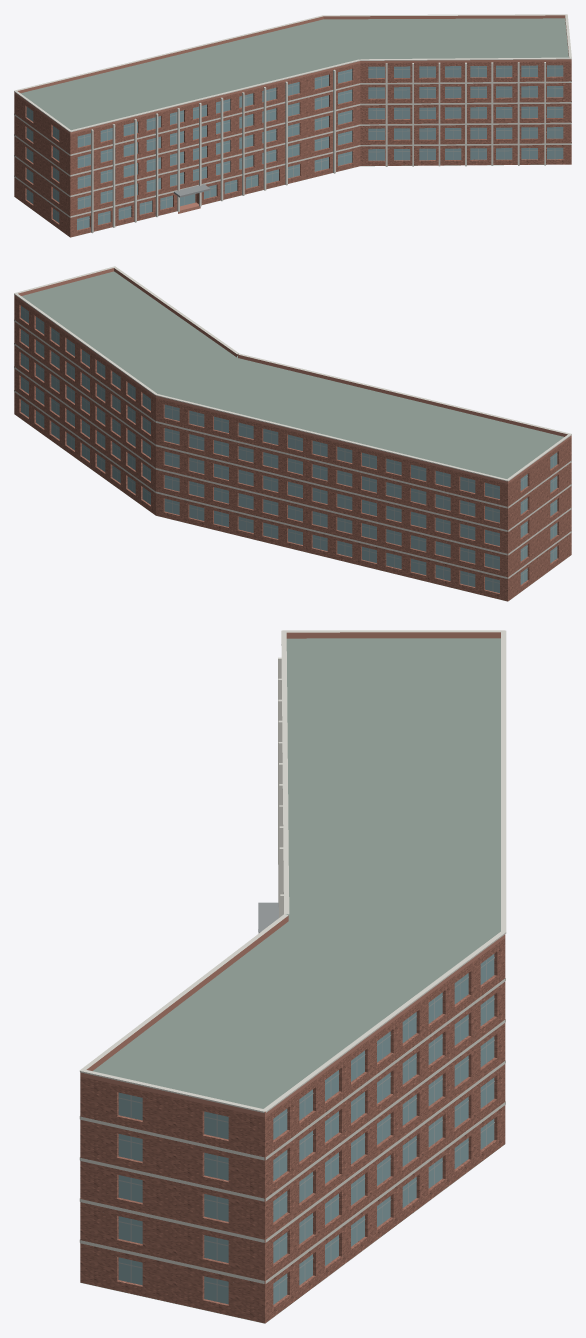
The picture shows the model from 3 angles, top to bottom: view 1: azimuth 30°, elevation 25°; view 2: azimuth 150°, elevation 25°; view 3: azimuth 270°, elevation 25°; orthographic projection. The views are drawn at different scales.
Parts seen in each view (by area): view 1: hwahong__wall, hwahong__roof, hwahong__glass, hwahong__trim, hwahong__parapet, hwahong__frame; view 2: hwahong__wall, hwahong__roof, hwahong__glass, hwahong__trim, hwahong__parapet, hwahong__frame; view 3: hwahong__roof, hwahong__wall, hwahong__glass, hwahong__trim, hwahong__parapet, hwahong__frame.
Part boxes in pixels (left/top/right/bottom): hwahong__wall: left=14, top=61, right=571, bottom=237; hwahong__roof: left=19, top=18, right=568, bottom=237; hwahong__glass: left=26, top=65, right=563, bottom=230; hwahong__trim: left=14, top=14, right=571, bottom=233; hwahong__parapet: left=14, top=15, right=571, bottom=134; hwahong__frame: left=26, top=65, right=563, bottom=228; hwahong__wall: left=14, top=297, right=571, bottom=601; hwahong__roof: left=16, top=271, right=570, bottom=600; hwahong__glass: left=21, top=306, right=557, bottom=592; hwahong__trim: left=14, top=266, right=571, bottom=578; hwahong__parapet: left=14, top=268, right=571, bottom=483; hwahong__frame: left=20, top=308, right=557, bottom=591; hwahong__roof: left=80, top=638, right=504, bottom=1323; hwahong__wall: left=80, top=938, right=505, bottom=1323; hwahong__glass: left=118, top=954, right=494, bottom=1304; hwahong__trim: left=79, top=630, right=506, bottom=1283; hwahong__parapet: left=80, top=632, right=505, bottom=1117; hwahong__frame: left=118, top=957, right=494, bottom=1301.
Bounding box in the file's own units: 77.74 × 16.35 × 29.1.
9 materials, 1 textured.
